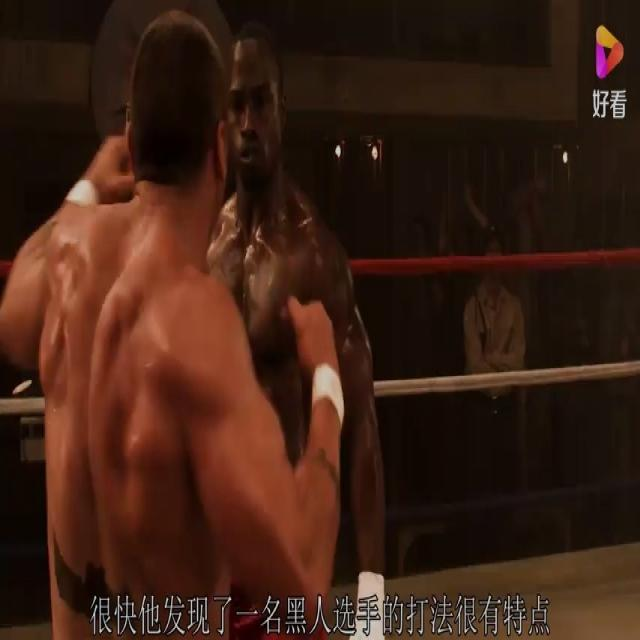fight: (0, 0, 393, 638)
